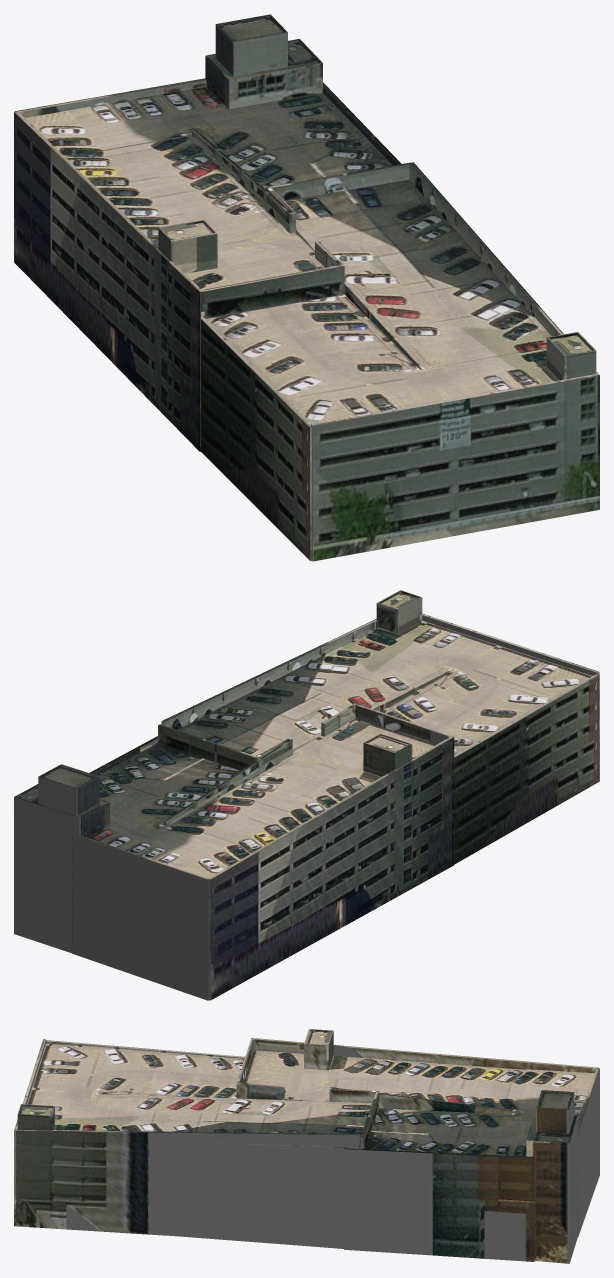
The model's file is Buildings_subset_21.dae.
The picture shows the model from 3 angles, top to bottom: view 1: azimuth 30°, elevation 25°; view 2: azimuth 150°, elevation 25°; view 3: azimuth 270°, elevation 25°; orthographic projection. The views are drawn at different scales.
Visible parts, largest first — view 1: Buildings_subset_21.dae (×11); view 2: Buildings_subset_21.dae (×12); view 3: Buildings_subset_21.dae (×13).
Boxes of the visible parts, left/top/right/bottom form: Buildings_subset_21.dae (×11): left=14, top=14, right=599, bottom=561; Buildings_subset_21.dae (×12): left=14, top=590, right=599, bottom=1000; Buildings_subset_21.dae (×13): left=14, top=1029, right=599, bottom=1263.
Bounding box in the file's own units: 151 × 300 × 82.47.
Materials: 1 (1 with a texture image).
